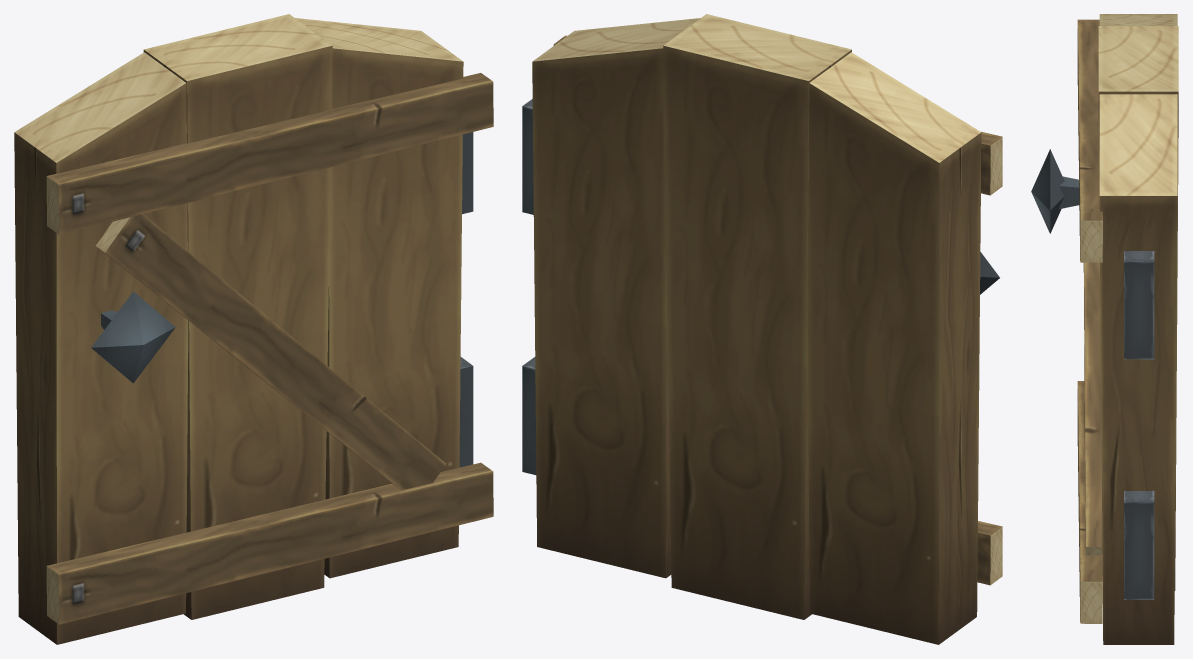
Rendered from gates_08.fbx.
The picture shows the model from 3 angles, left to right: view 1: azimuth 30°, elevation 25°; view 2: azimuth 150°, elevation 25°; view 3: azimuth 270°, elevation 25°; orthographic projection. The views are drawn at different scales.
Visible parts, largest first — view 1: gates_08:Mesh; view 2: gates_08:Mesh; view 3: gates_08:Mesh.
Boxes of the visible parts, x1,y1,x2,y2 form: gates_08:Mesh: [14, 14, 493, 644]; gates_08:Mesh: [522, 14, 1002, 644]; gates_08:Mesh: [1031, 14, 1178, 644].
Size of the model in its own units: 2.67 by 3.14 by 0.8382.
